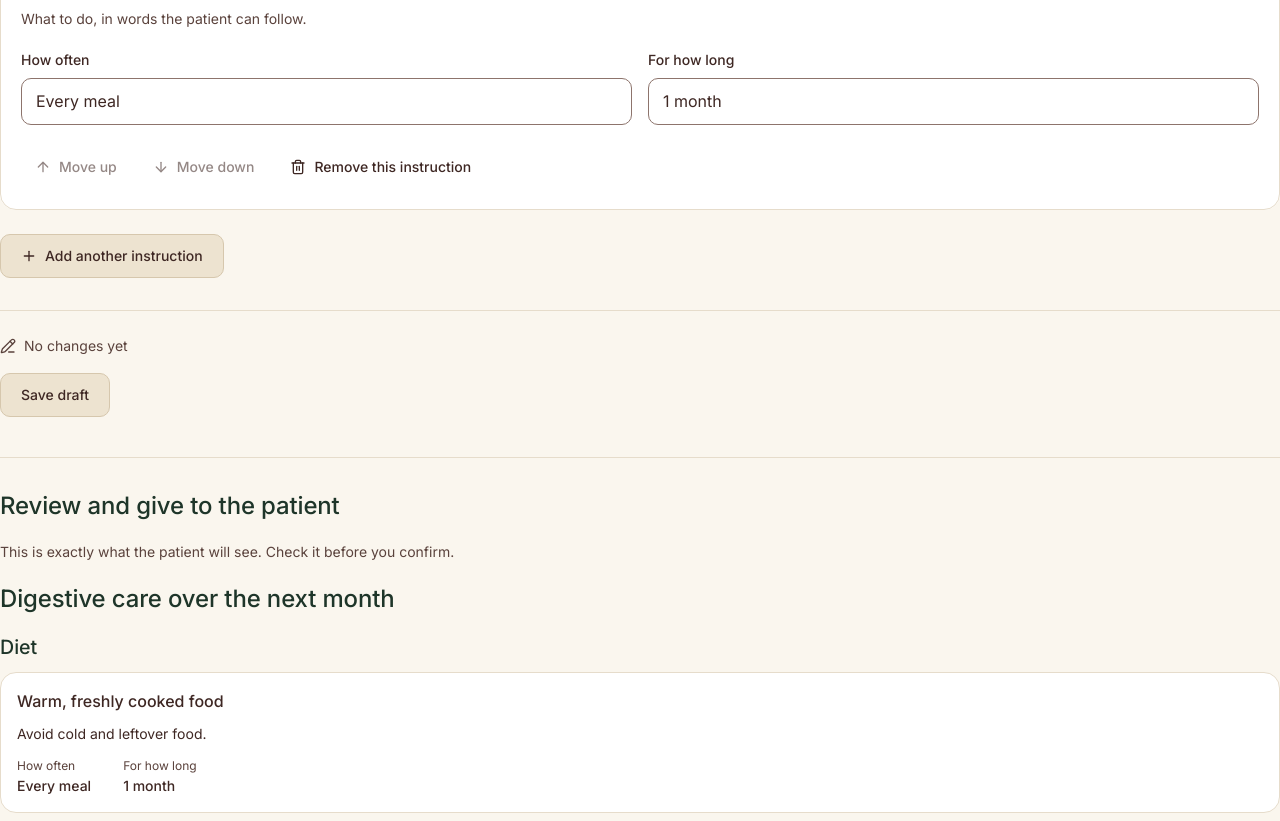
Test: the save state › stops offering to save after a conflict
This screenshot has width=1280, height=821.
(page scrolled)
Step 1. Click the button "Save draft" → click(55, 395), box left=0, top=373, right=110, bottom=417
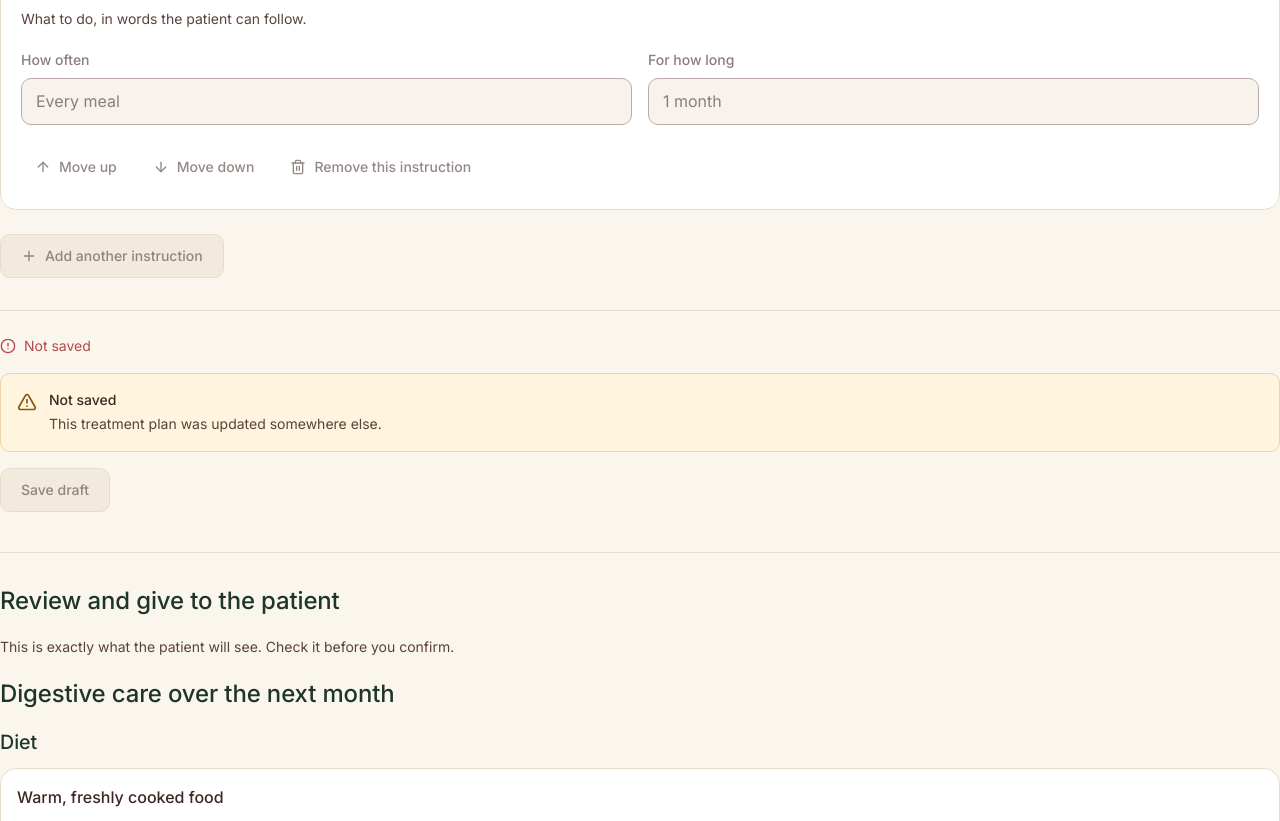
Expected: the button "Save draft" is disabled, left=0, top=468, right=110, bottom=512
